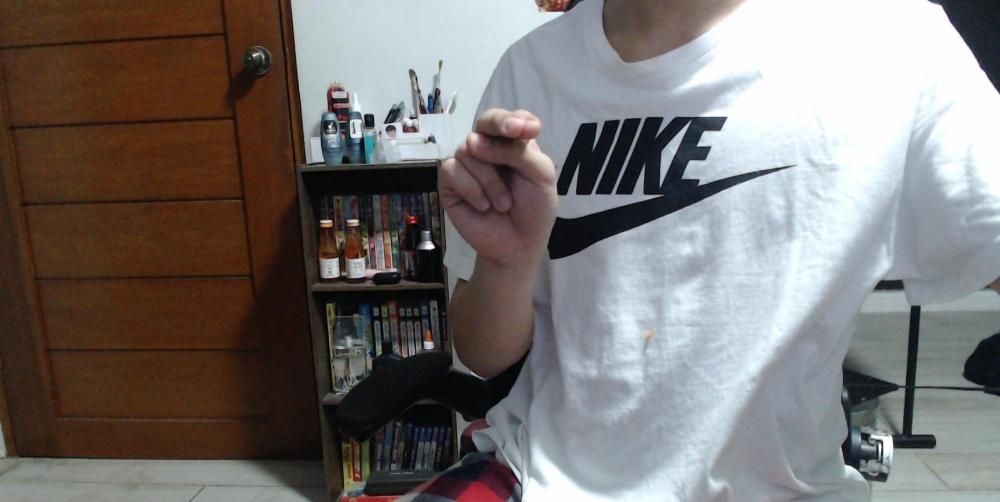n: (438, 106, 557, 264)
